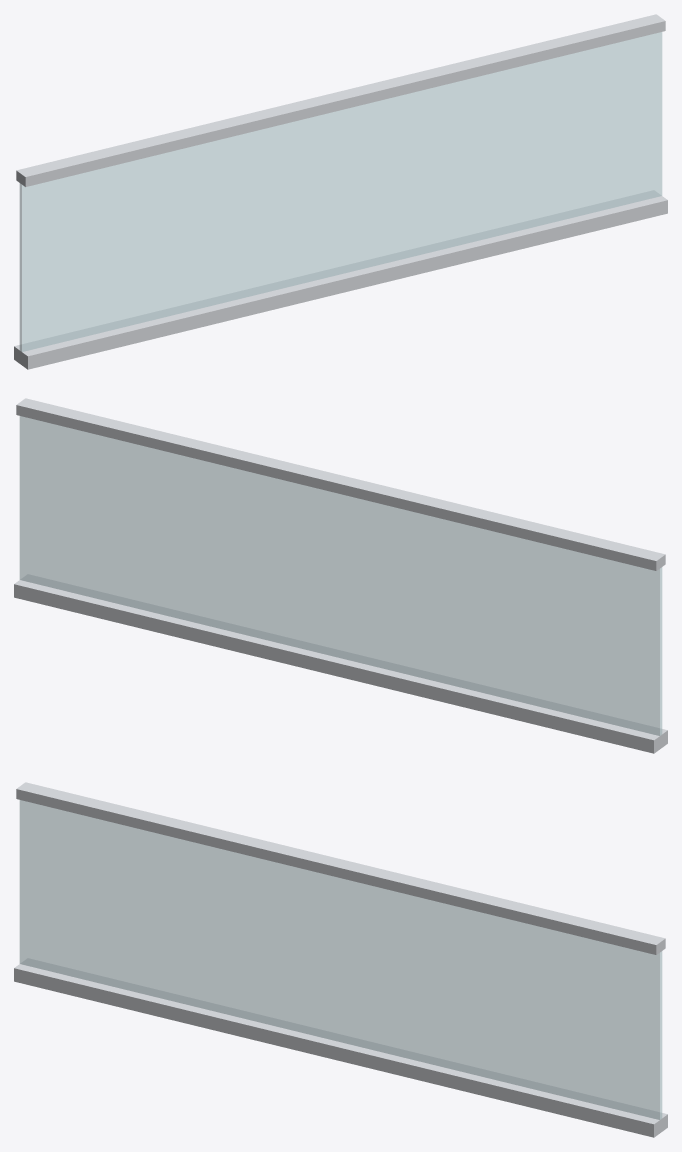
The model's file is three-d-retro-arcade-and-mall-1989-retro-arcade-and-mall-1989-glass-rail-8711d8f7.glb.
The picture shows the model from 3 angles, top to bottom: view 1: azimuth 30°, elevation 25°; view 2: azimuth 150°, elevation 25°; view 3: azimuth 330°, elevation 25°; orthographic projection.
Visible parts, largest first — view 1: glass-rail; view 2: glass-rail; view 3: glass-rail.
Boxes of the visible parts, x1,y1,x2,y2 form: glass-rail: (14, 14, 667, 369); glass-rail: (14, 398, 667, 753); glass-rail: (14, 782, 667, 1137).
Size of the model in its own units: 4 by 1.14 by 0.1499.
